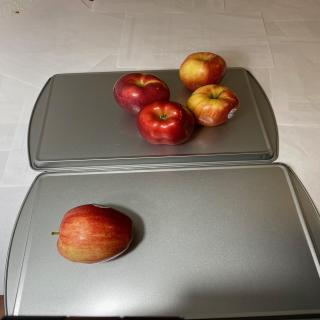Apple: (52, 203, 134, 264), (136, 100, 195, 146), (113, 72, 170, 115), (186, 84, 240, 127), (179, 52, 227, 91)
